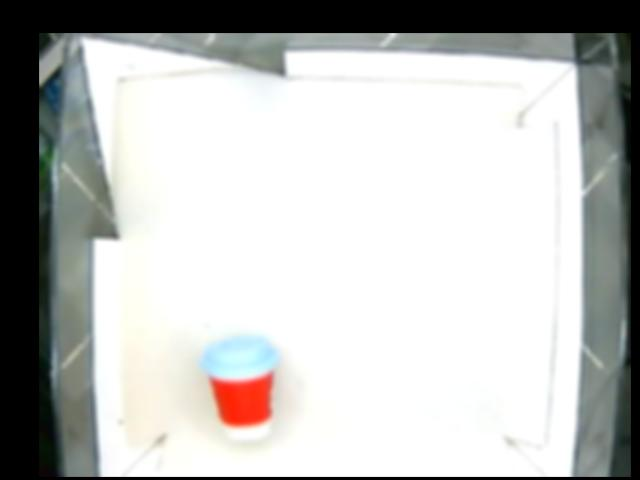Cup: (200, 333, 278, 442)
